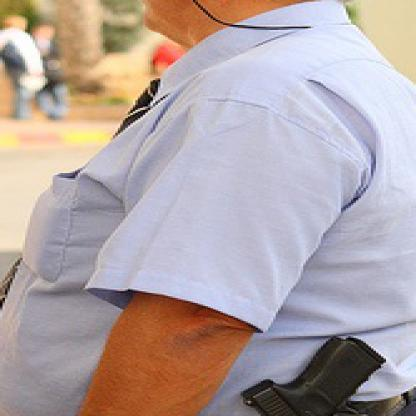gun: (233, 334, 396, 414)
